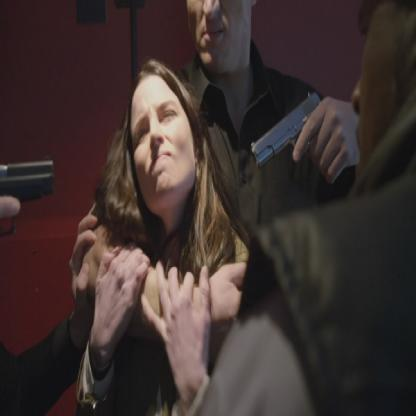Gun: (248, 88, 346, 184), (0, 154, 56, 250)
